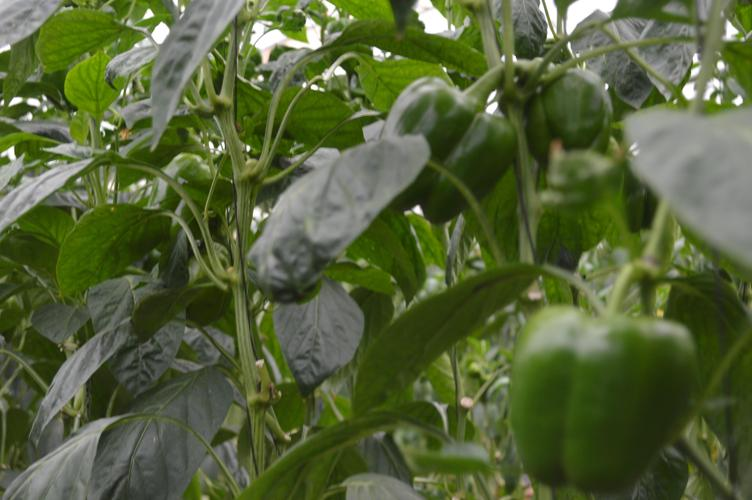BellPepper: (508, 304, 698, 486), (375, 78, 511, 220), (527, 65, 607, 154)
